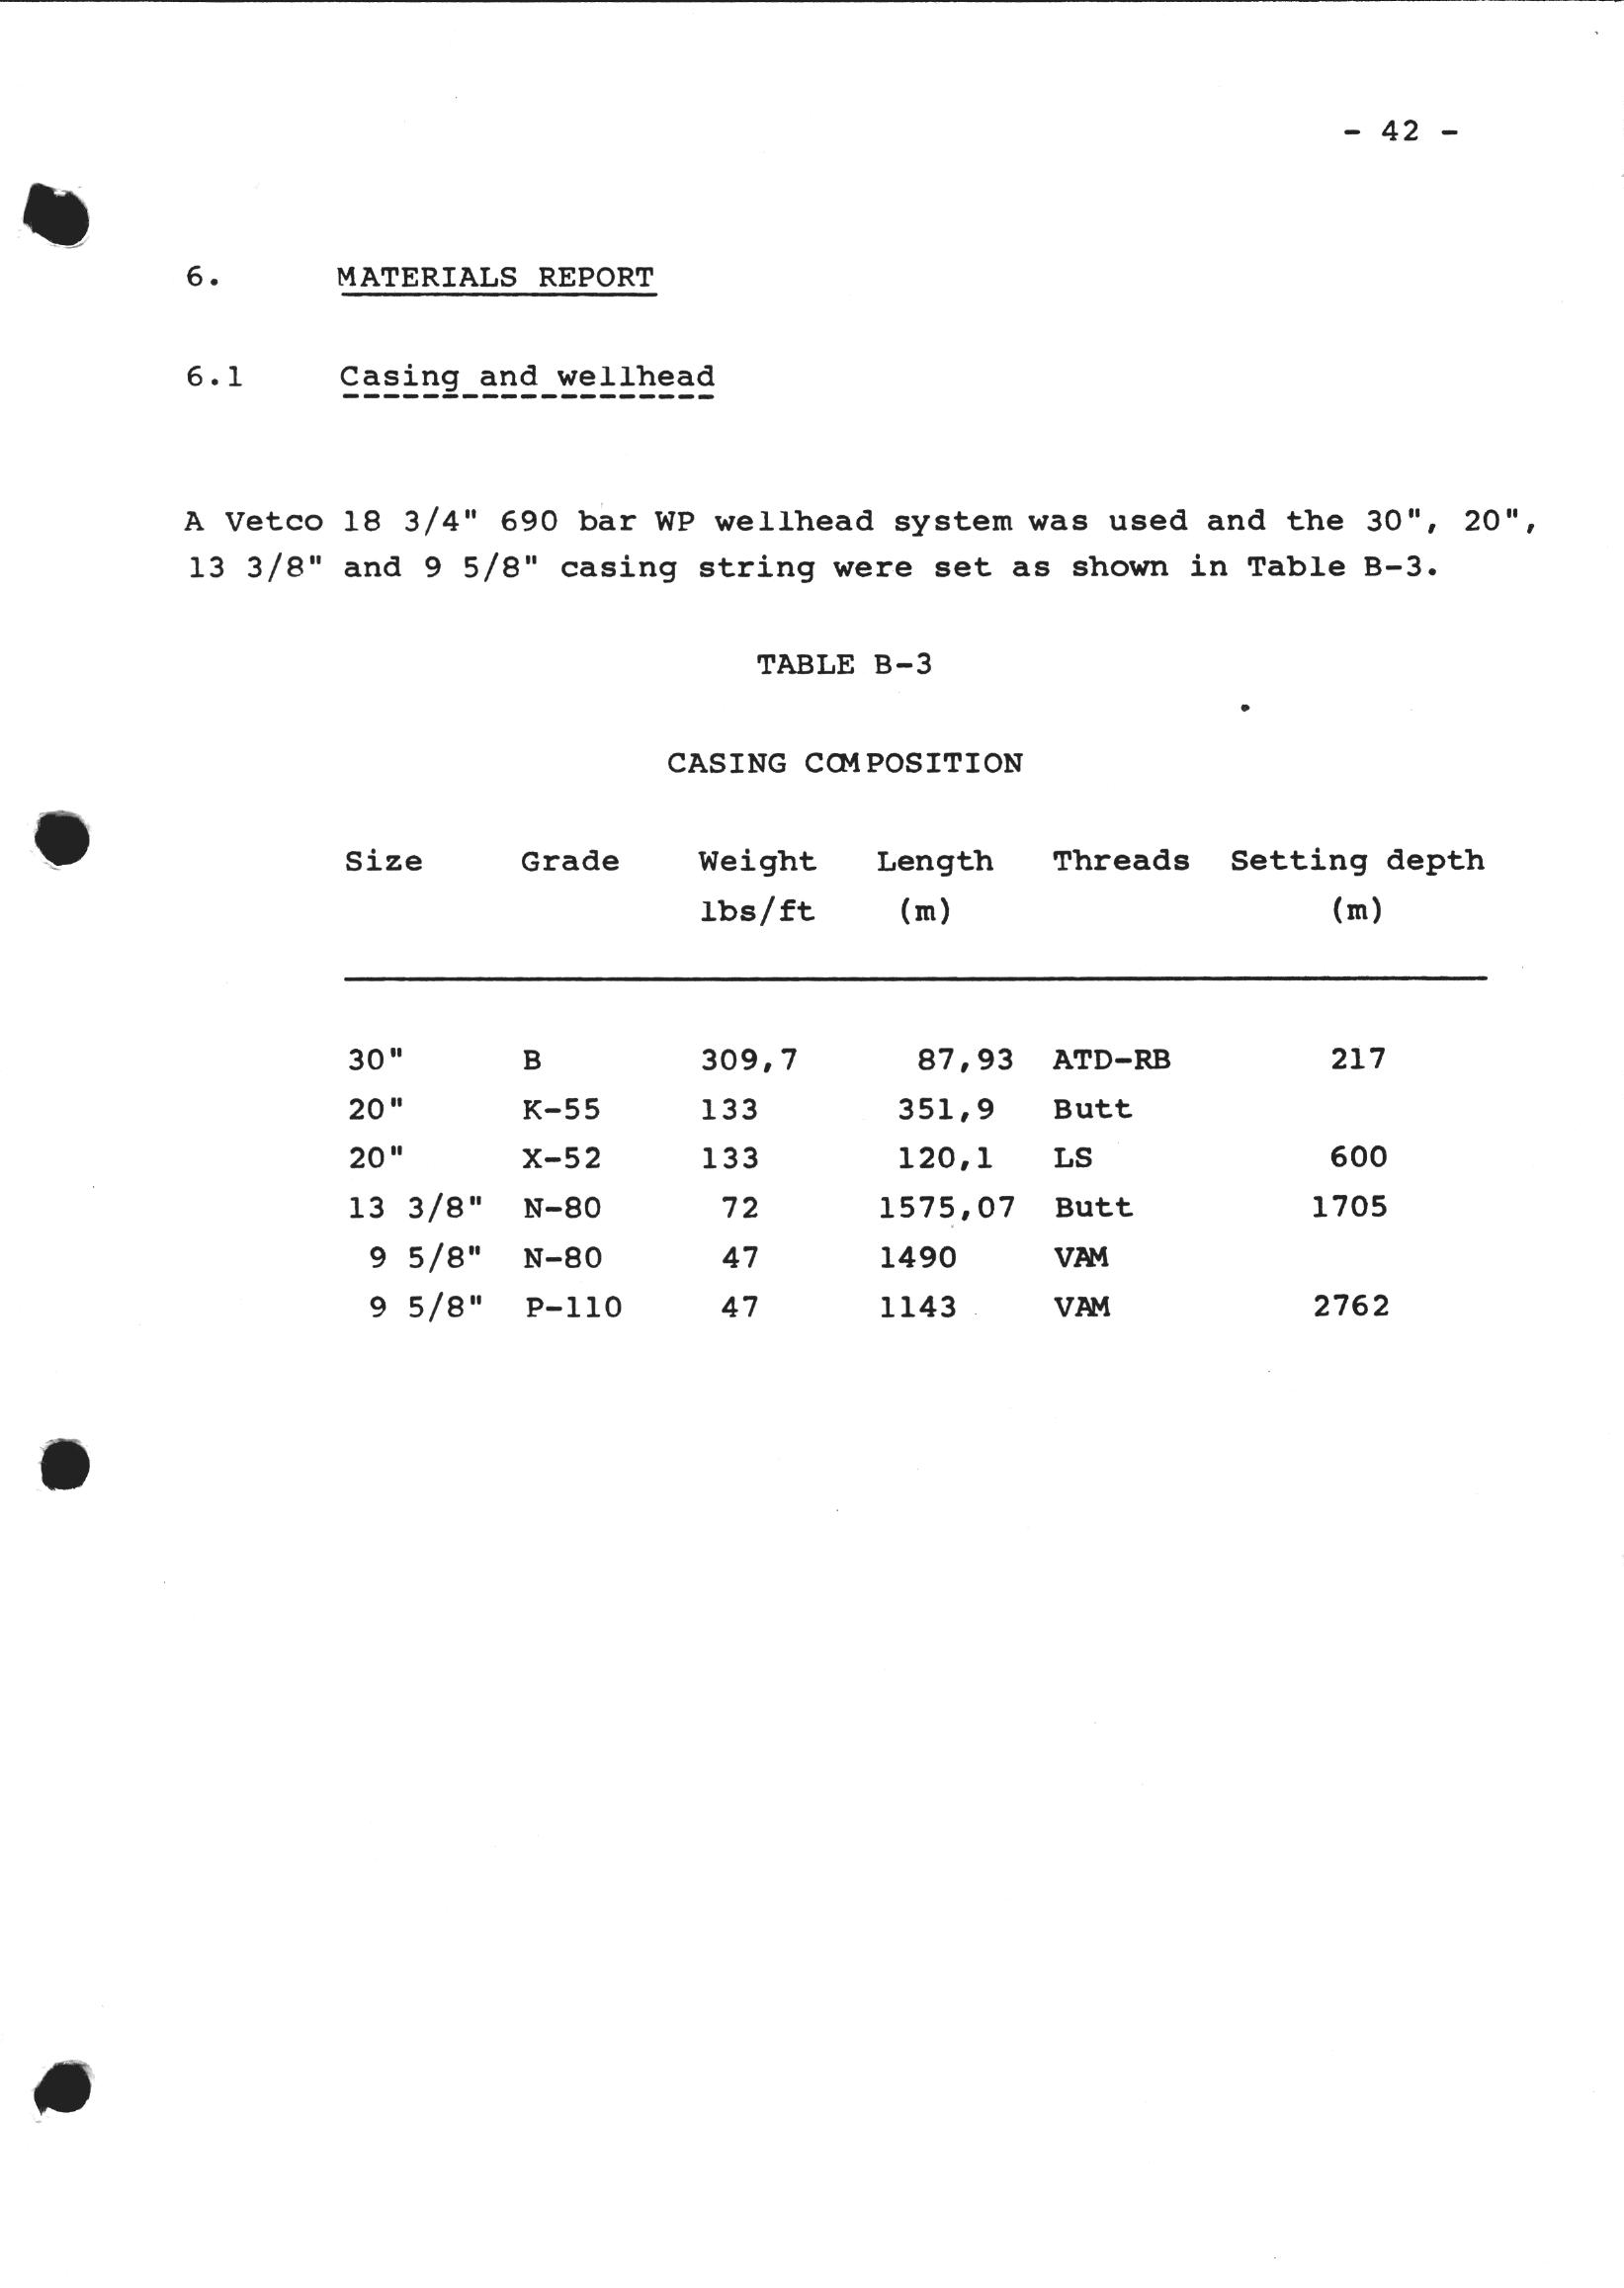table: (297, 724, 1557, 1376)
text: (153, 228, 1555, 599), (710, 627, 972, 694)
